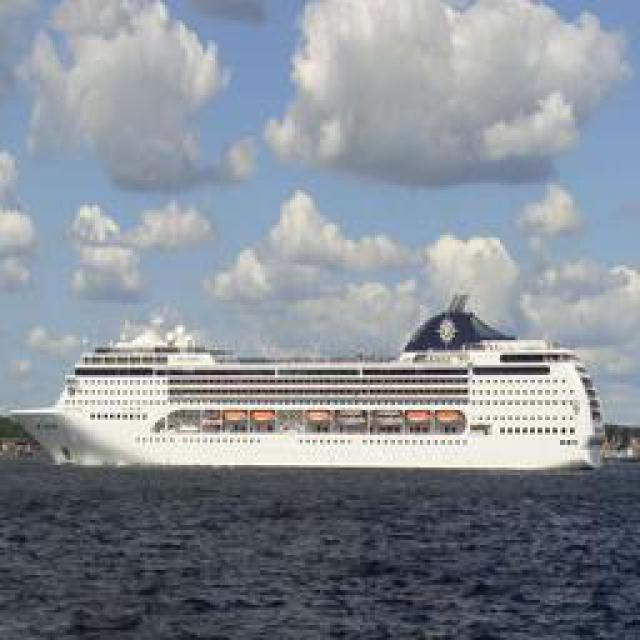Ship: (16, 325, 619, 480)
